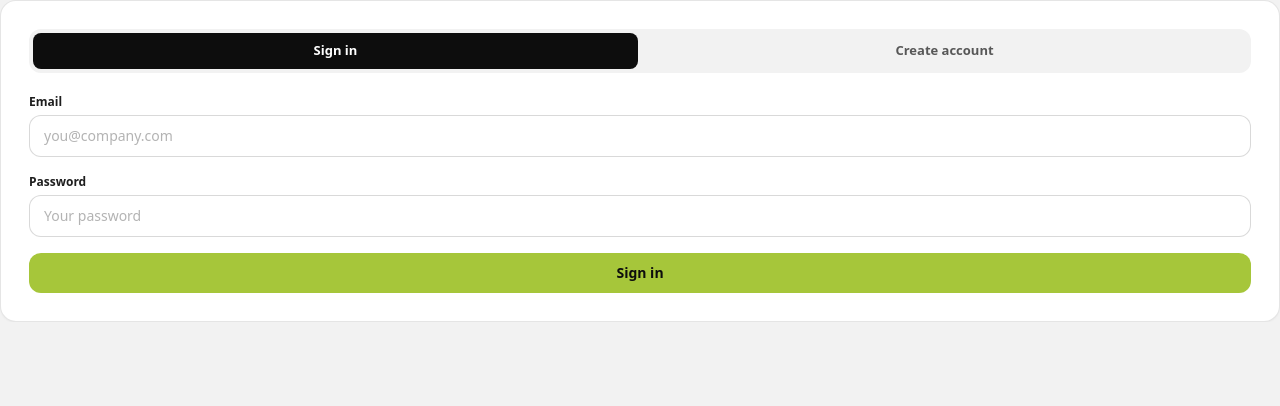
it: invitation request recovery › unlocks signup after a rejected network request
The image size is (1280, 406).
Click the button "Create account": [944, 51] box [642, 33, 1247, 68]
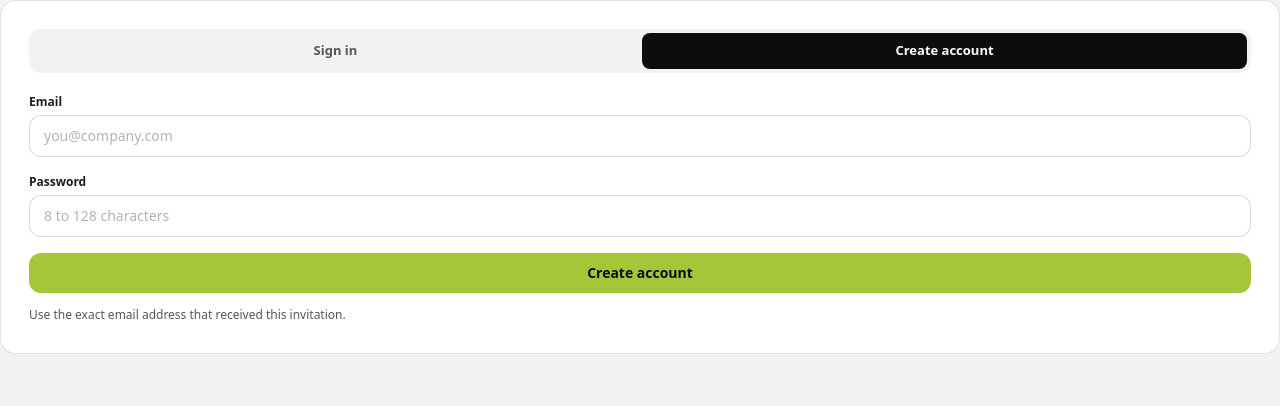
In the field labelled "Email": [640, 136] box [29, 114, 1251, 156], type "CLIENT@example.invalid"
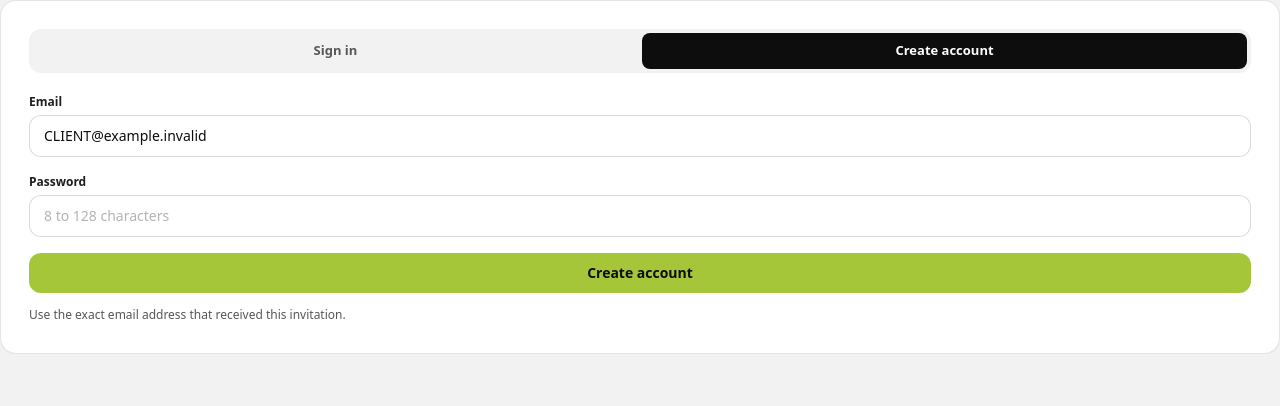
In the password field labelled "Password": [640, 216] box [29, 194, 1251, 236], type "synthetic-test-password"
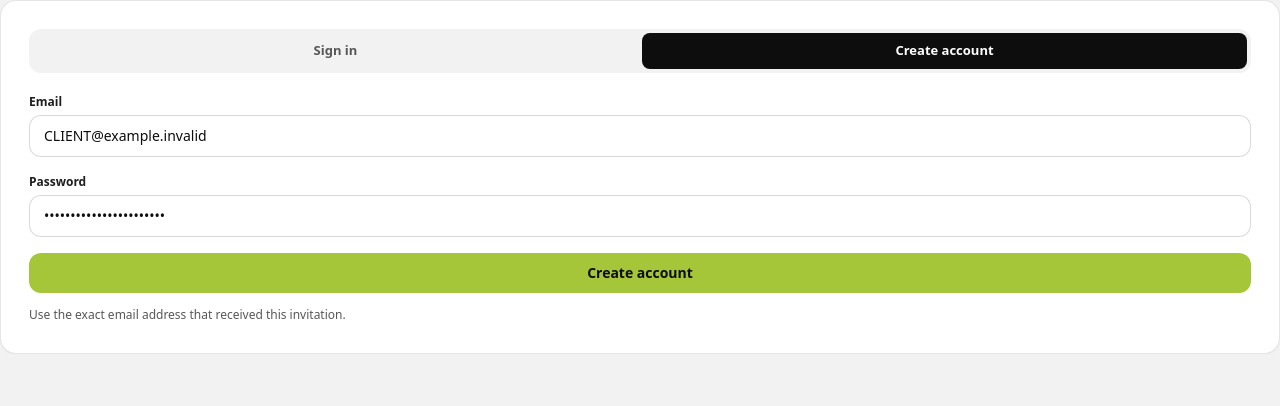
Submit the form, box [29, 92, 1251, 292]
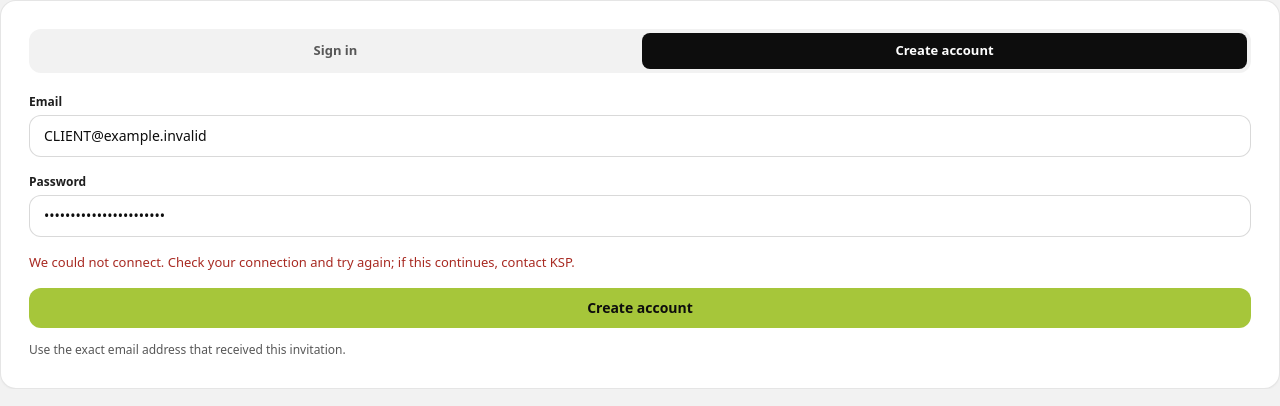
Expected: the submit button is enabled, [29, 288, 1251, 328]
Expected: the message shows "could not connect", [29, 252, 575, 270]
